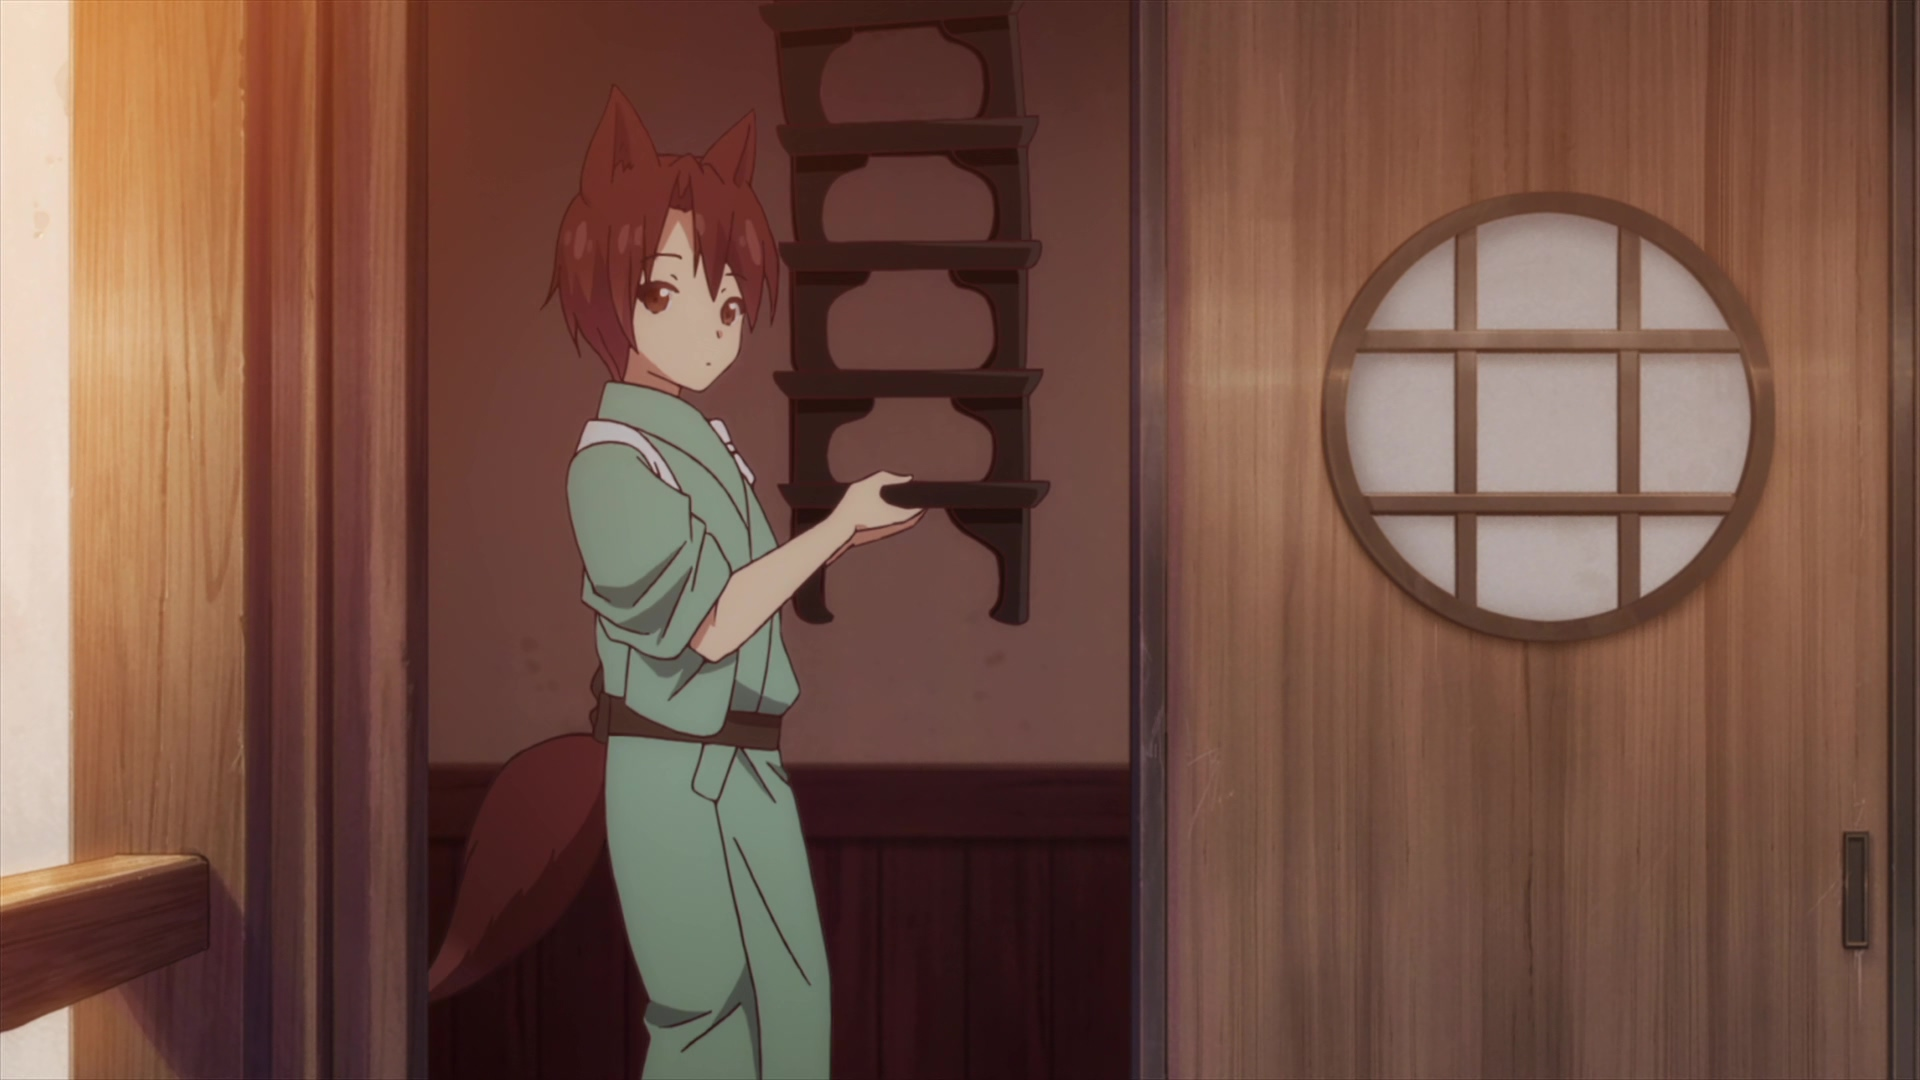枣: (430, 88, 926, 1080)
